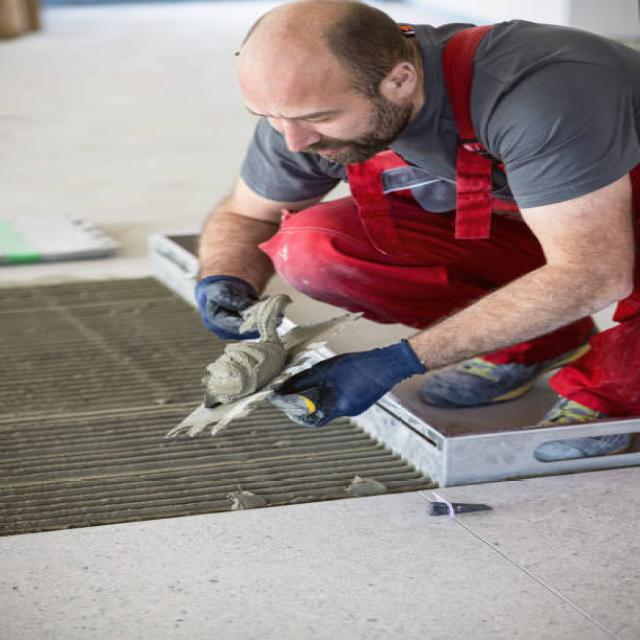Gloves: (275, 332, 438, 430), (189, 268, 267, 344)
person: (193, 2, 637, 462)
